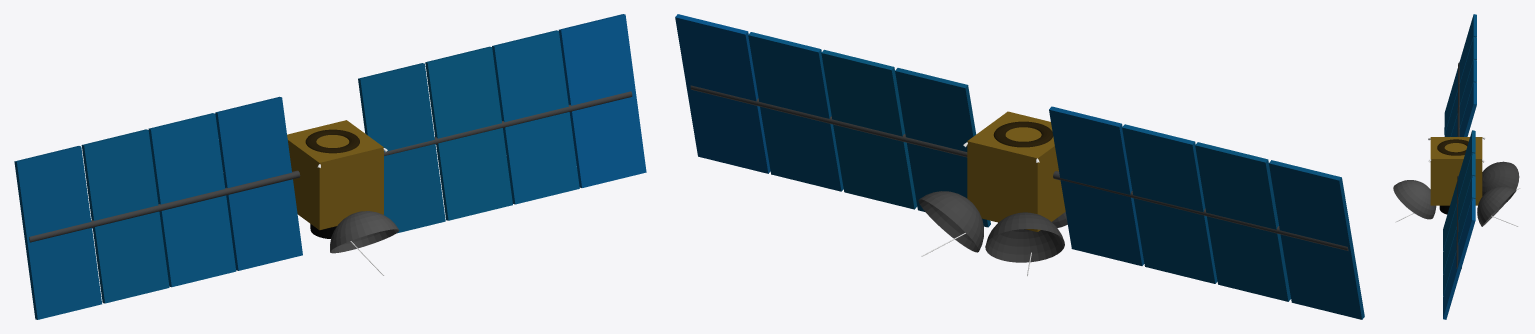
3 views of the same model, side by side, from view 1: azimuth 30°, elevation 25°; view 2: azimuth 150°, elevation 25°; view 3: azimuth 270°, elevation 25° (orthographic). The views are drawn at different scales.
Visible parts, largest first — view 1: Cube.001, Cube.002, Cube.003, Cube.005, Cube.008, Cube.007, Cube.006, Cube.004, Cube, Cylinder.001, Sphere, Torus; view 2: Cube.006, Cube.005, Cube.008, Cube.007, Cube.003, Cube.001, Cube.002, Cube, Cube.004, Sphere.002, Cylinder.001, Sphere.001 (+1 smaller); view 3: Cube, Cube.003, Sphere, Sphere.002, Sphere.001, Cube.004, Cube.005, Cube.002, Cube.001, Cube.008, Cube.007, Cube.006 (+2 smaller).
Boxes of the visible parts, x1,y1,x2,y2 form: Cube.001: (425, 46, 512, 220); Cube.002: (492, 30, 579, 204); Cube.003: (559, 14, 646, 187); Cube.005: (14, 146, 101, 319); Cube.008: (81, 129, 169, 303); Cube.007: (148, 113, 236, 287); Cube.006: (215, 96, 302, 270); Cube.004: (358, 63, 445, 233); Cube: (287, 120, 383, 230); Cylinder.001: (29, 91, 632, 242); Sphere: (330, 211, 399, 253); Torus: (305, 129, 359, 153); Cube.006: (1049, 106, 1144, 265); Cube.005: (1269, 160, 1364, 319); Cube.008: (1195, 142, 1290, 301); Cube.007: (1122, 124, 1217, 283); Cube.003: (675, 14, 770, 173); Cube.001: (821, 49, 917, 209); Cube.002: (748, 32, 843, 191); Cube: (967, 111, 1065, 231); Cube.004: (895, 68, 990, 227); Sphere.002: (985, 212, 1064, 262); Cylinder.001: (690, 85, 1348, 250); Sphere.001: (918, 191, 983, 252); Cube: (1430, 137, 1482, 205); Cube.003: (1443, 198, 1475, 319); Sphere: (1393, 180, 1436, 219); Sphere.002: (1482, 161, 1519, 201); Sphere.001: (1477, 186, 1516, 226); Cube.004: (1443, 130, 1475, 250); Cube.005: (1444, 14, 1476, 134); Cube.002: (1443, 175, 1475, 296); Cube.001: (1443, 153, 1475, 273); Cube.008: (1444, 37, 1476, 136); Cube.007: (1451, 59, 1476, 136); Cube.006: (1459, 82, 1476, 136).
Size of the model in its own units: 18.88 by 4.41 by 4.93.
